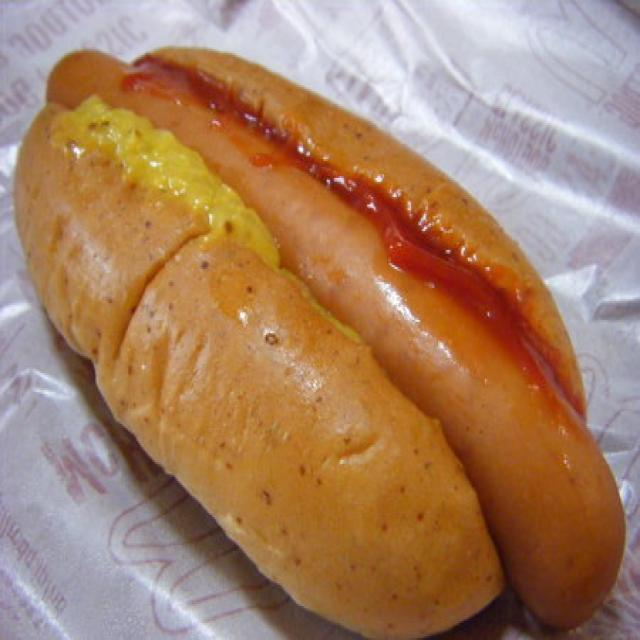Hot Dog: (19, 32, 636, 640)
